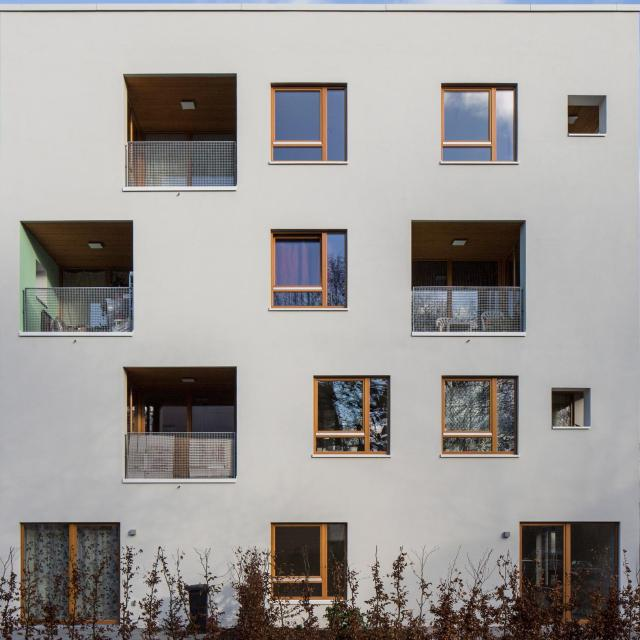door: (523, 522, 615, 616)
railing: (123, 433, 237, 481), (414, 289, 529, 334), (27, 290, 135, 334), (133, 140, 236, 184)
window: (28, 523, 121, 615), (272, 80, 349, 160), (441, 83, 518, 160), (313, 374, 390, 450), (273, 225, 347, 302), (443, 376, 517, 453), (272, 524, 348, 598), (149, 399, 233, 433), (64, 264, 132, 283)
